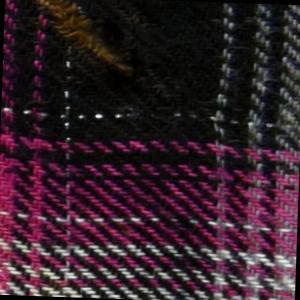Damage: (34, 1, 129, 67)
Oil Stain: (25, 1, 147, 75)
